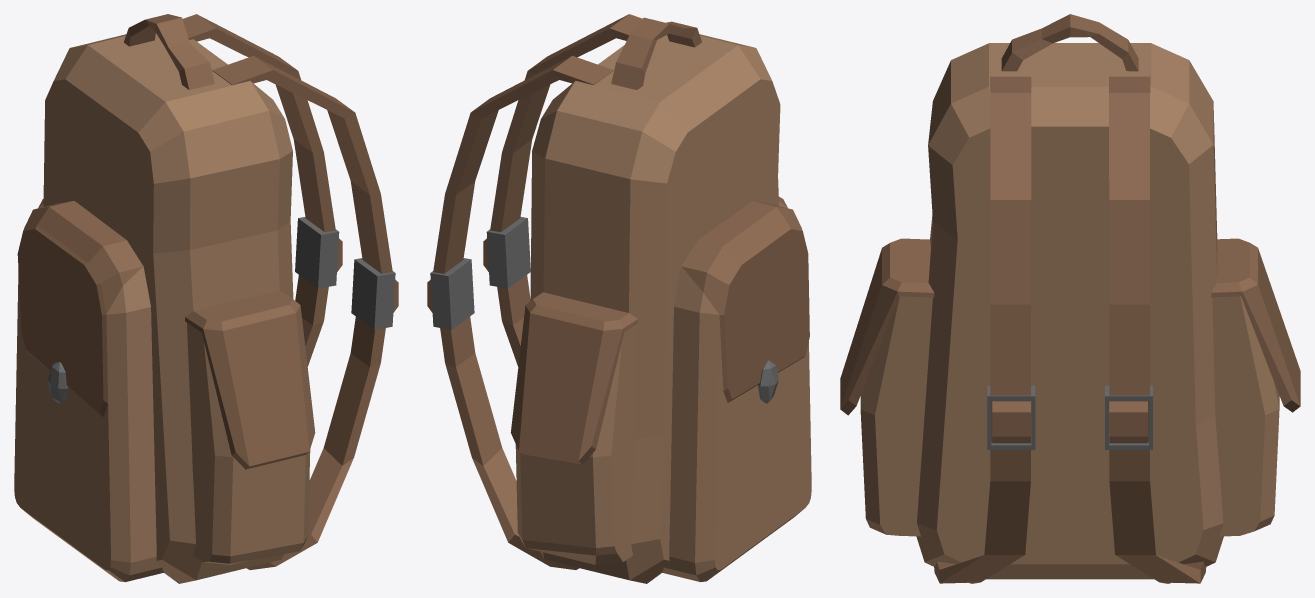
Rendered from travel-backpack-pocket-coral.glb.
3 renders of one model, left to right at view 1: azimuth 30°, elevation 25°; view 2: azimuth 150°, elevation 25°; view 3: azimuth 270°, elevation 25°, orthographic. The views are drawn at different scales.
Visible parts, largest first — view 1: Backpack_Cube.006; view 2: Backpack_Cube.006; view 3: Backpack_Cube.006.
Part boxes in pixels (x1,y1,x2,y2): Backpack_Cube.006: (14, 14, 398, 583); Backpack_Cube.006: (427, 14, 811, 583); Backpack_Cube.006: (840, 14, 1300, 583).
Bounding box in the file's own units: 1 × 1.61 × 1.23.
